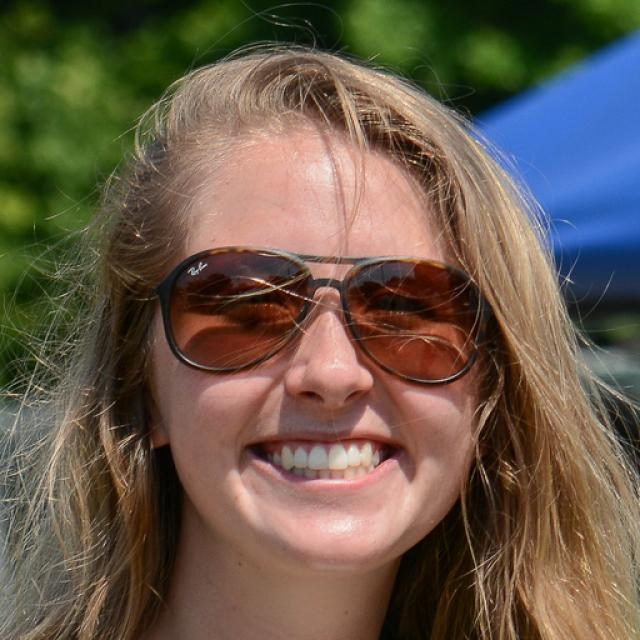happy: (155, 138, 483, 562)
